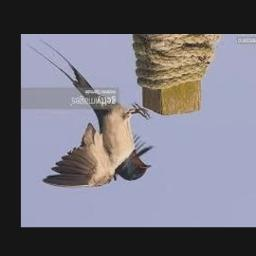Swallow: (27, 42, 154, 188)
